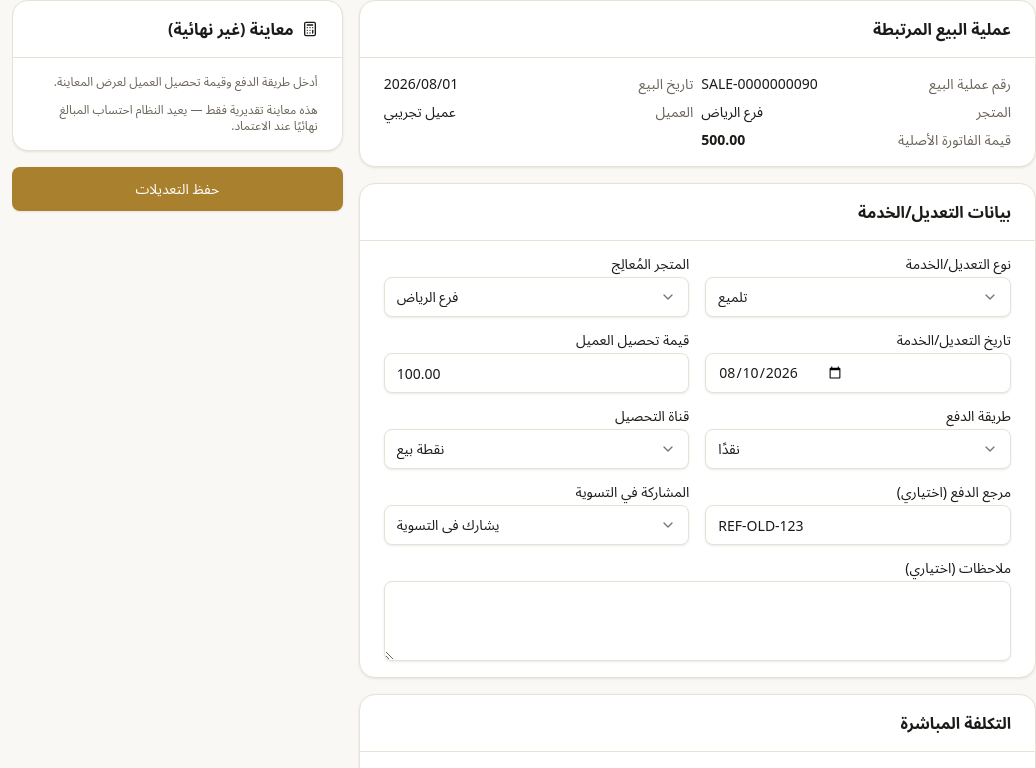
Scenario: AdjustmentEntryForm — Hotfix 6.1.1 item 11: zero-charge state machine › (A) paid -> free: payment method/channel/reference fields disappear and the settlement participation control is gone
Expected: the field showing "REF-OLD-123" is shown, [705, 505, 1011, 545]
Expected: the text "يشارك في التسوية" is shown, [397, 515, 500, 535]
Replace the text in the number field with "0" at (537, 373), box [384, 353, 689, 393]
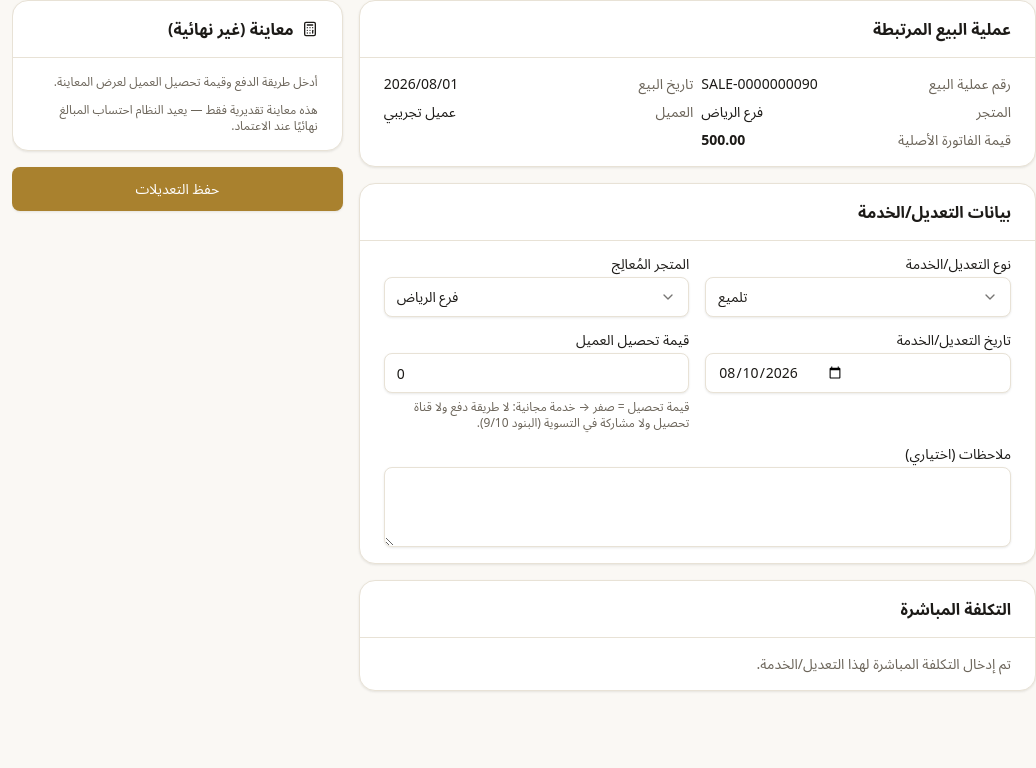
Expected: the field showing "REF-OLD-123" is not shown
Result: the text "خدمة مجانية: لا طريقة دفع ولا قناة تحصيل ولا مشاركة في التسوية" is shown at [414, 398, 689, 431]
